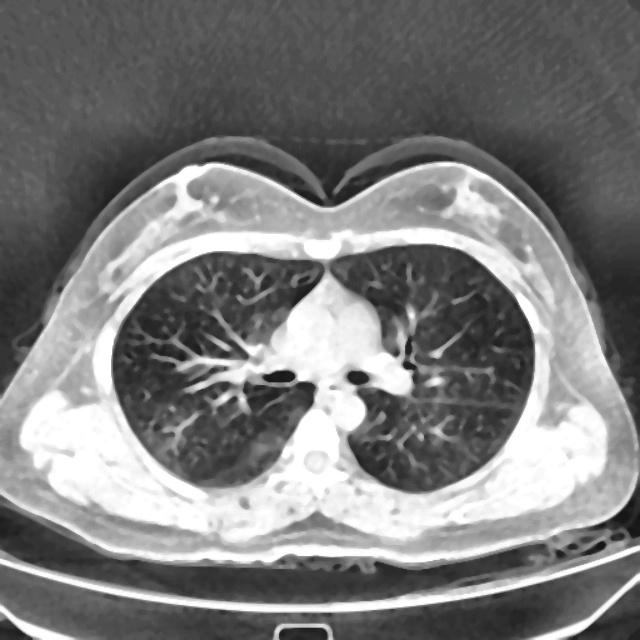covid: (1, 135, 637, 574)
